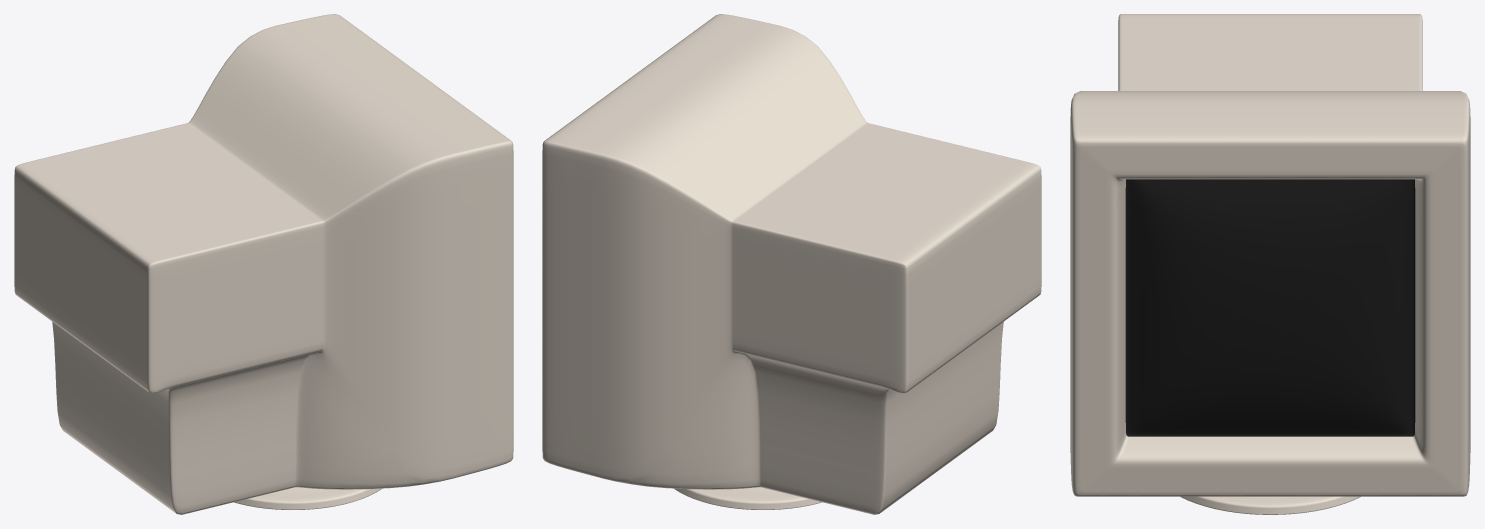
File: SM_ComputerMonitor.fbx
3 renders of one model, left to right at view 1: azimuth 30°, elevation 25°; view 2: azimuth 150°, elevation 25°; view 3: azimuth 270°, elevation 25°, orthographic. The views are drawn at different scales.
Parts seen in each view (by area): view 1: Cube; view 2: Cube; view 3: Cube.
Part boxes in pixels (x1,y1,x2,y2): Cube: (14,14,513,514); Cube: (542,14,1041,514); Cube: (1070,14,1470,514).
Size of the model in its own units: 20.12 by 19.98 by 18.02.
